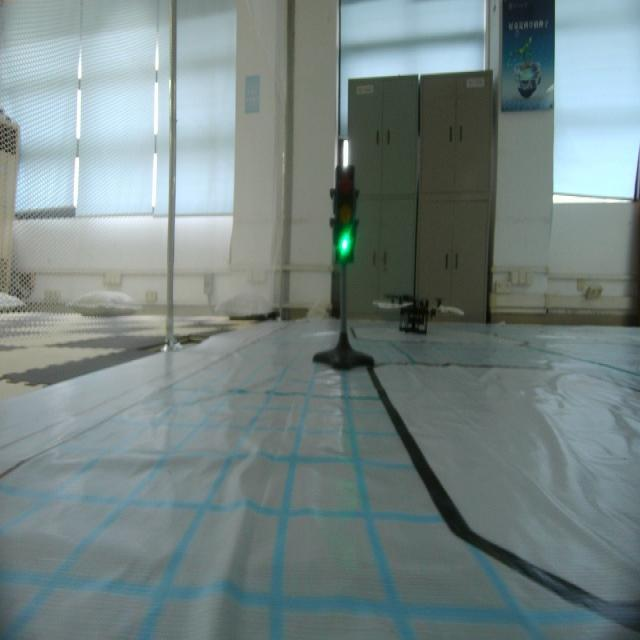green: (324, 161, 362, 266)
